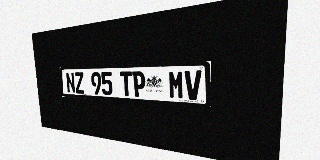5: (101, 72, 113, 95)
9: (91, 72, 102, 95)
M: (168, 71, 184, 99)
N: (65, 72, 76, 93)
P: (132, 71, 146, 97)
T: (120, 71, 133, 96)
V: (184, 70, 201, 100)
Z: (74, 72, 85, 94)
